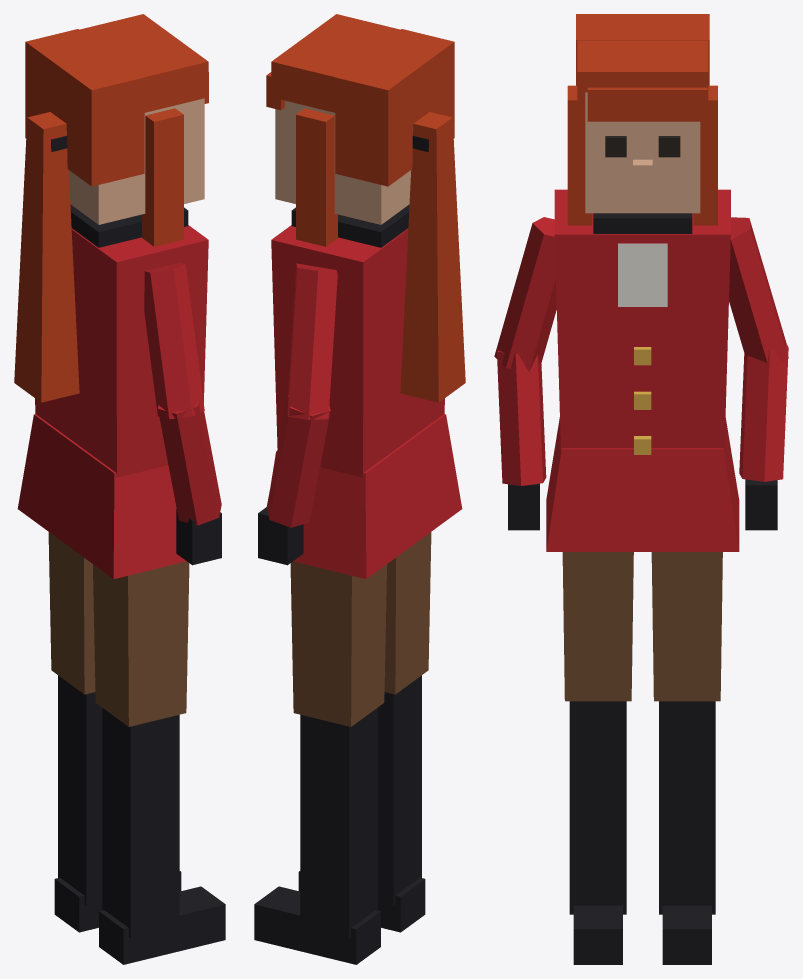
File: Red.glb
The picture shows the model from 3 angles, left to right: view 1: azimuth 30°, elevation 25°; view 2: azimuth 150°, elevation 25°; view 3: azimuth 270°, elevation 25°; orthographic projection.
Parts seen in each view (by area): view 1: Red_red_jacket, Red_red_hair, Red_black, Red_red_pants, Red_skin; view 2: Red_red_jacket, Red_red_hair, Red_black, Red_red_pants, Red_skin; view 3: Red_red_jacket, Red_black, Red_red_pants, Red_red_hair, Red_skin, Red_white, Red_gold, Red_eye.
Part boxes in pixels (left/top/right/bottom): Red_red_jacket: left=17, top=225, right=221, bottom=579; Red_red_hair: left=14, top=14, right=208, bottom=402; Red_black: left=51, top=135, right=225, bottom=964; Red_red_pants: left=48, top=532, right=189, bottom=726; Red_skin: left=68, top=98, right=204, bottom=224; Red_red_jacket: left=266, top=225, right=462, bottom=579; Red_red_hair: left=266, top=14, right=465, bottom=402; Red_black: left=254, top=135, right=428, bottom=964; Red_red_pants: left=290, top=532, right=431, bottom=726; Red_skin: left=275, top=100, right=411, bottom=224; Red_red_jacket: left=494, top=189, right=788, bottom=551; Red_black: left=508, top=213, right=777, bottom=964; Red_red_pants: left=562, top=552, right=722, bottom=701; Red_red_hair: left=567, top=14, right=717, bottom=225; Red_skin: left=585, top=92, right=700, bottom=213; Red_white: left=618, top=243, right=667, bottom=306; Red_gold: left=634, top=347, right=651, bottom=454; Red_eye: left=605, top=136, right=680, bottom=157.
Bounding box in the file's own units: 0.3839 × 1.98 × 0.595.
